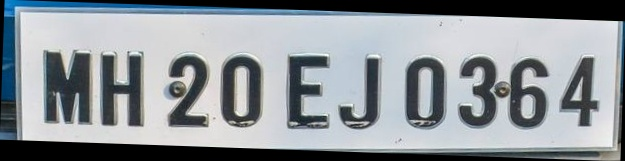character: (39, 44, 93, 129), (282, 50, 333, 131), (97, 48, 147, 130), (164, 53, 214, 130), (217, 53, 265, 132), (336, 53, 382, 132), (401, 54, 447, 131), (559, 54, 603, 130), (456, 51, 499, 126), (507, 56, 550, 130)
